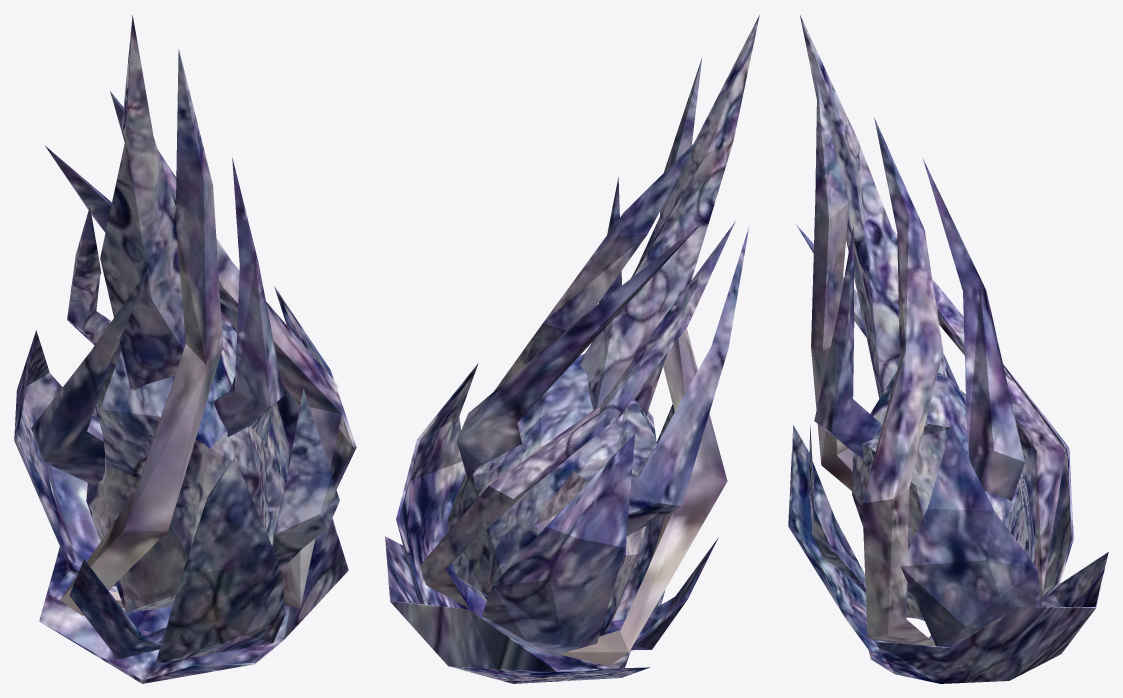
The model's file is Cometa.glb.
The picture shows the model from 3 angles, left to right: view 1: azimuth 30°, elevation 25°; view 2: azimuth 150°, elevation 25°; view 3: azimuth 270°, elevation 25°; orthographic projection. The views are drawn at different scales.
Parts seen in each view (by area): view 1: Object_4; view 2: Object_4; view 3: Object_4.
Part boxes in pixels (bbox=[...]): Object_4: bbox=[14, 15, 356, 683]; Object_4: bbox=[385, 15, 759, 683]; Object_4: bbox=[788, 15, 1108, 683].
Bounding box in the file's own units: 0.983 × 2.21 × 1.07.
1 material, 1 textured.
